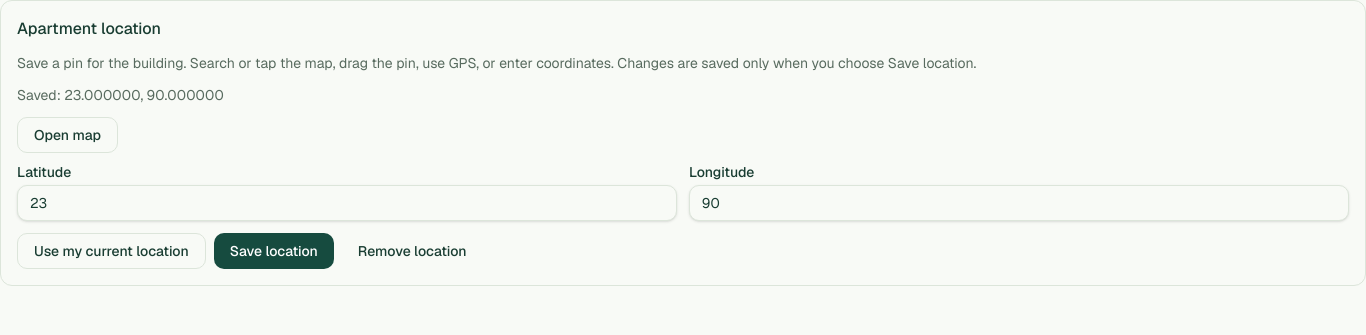
apartment location › allows removing a saved point without changing apartment details
Click the button "Remove location" at [412, 251], box [342,233,482,269]
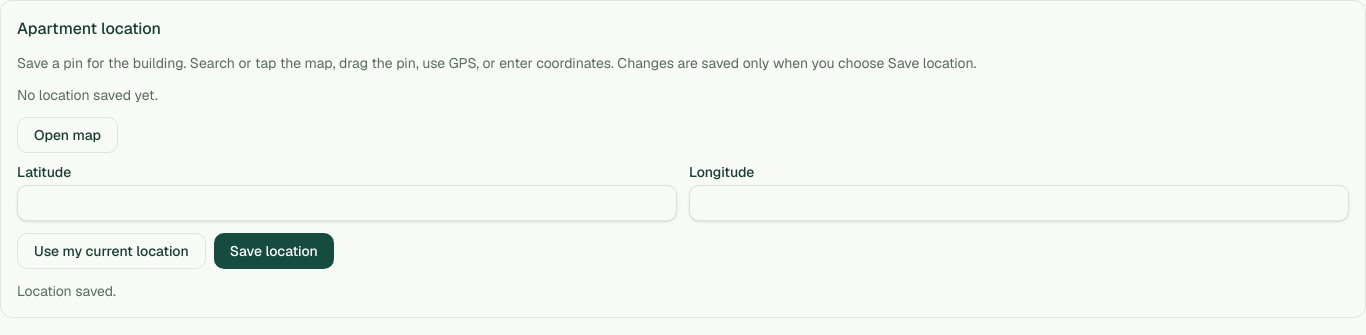
Expected: the text "No location saved yet." is shown, [17,86,158,104]
